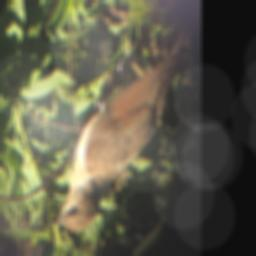Cuckoo: (47, 16, 197, 232)
